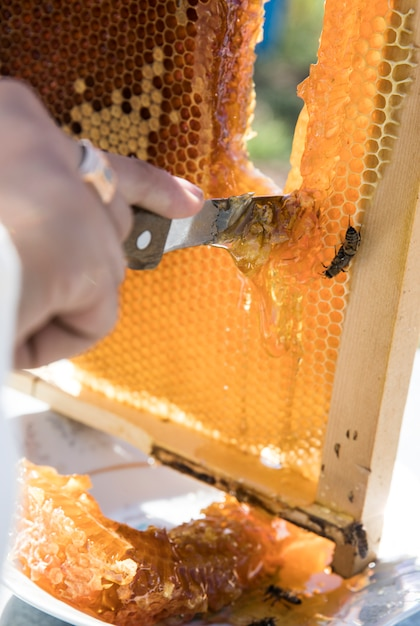knife: (121, 194, 290, 271)
